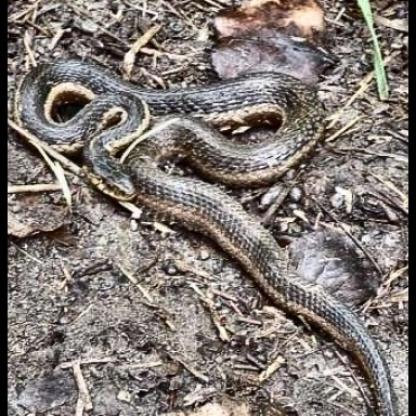Snake: (16, 58, 390, 402)
